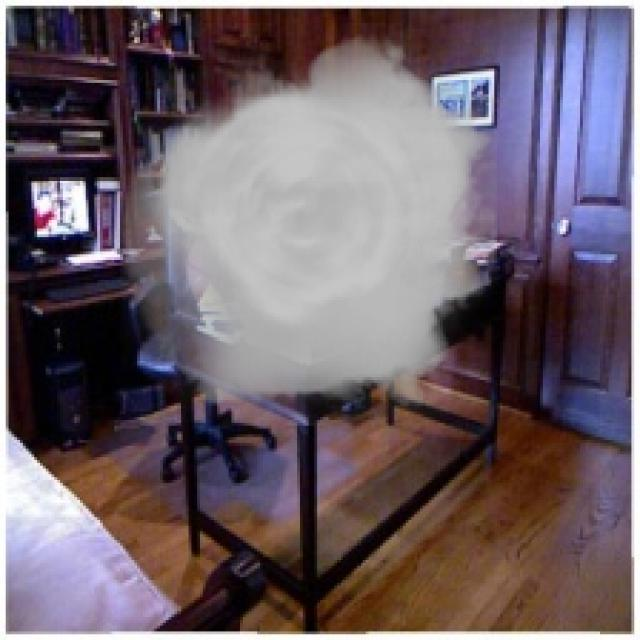smoke: (120, 23, 497, 426)
